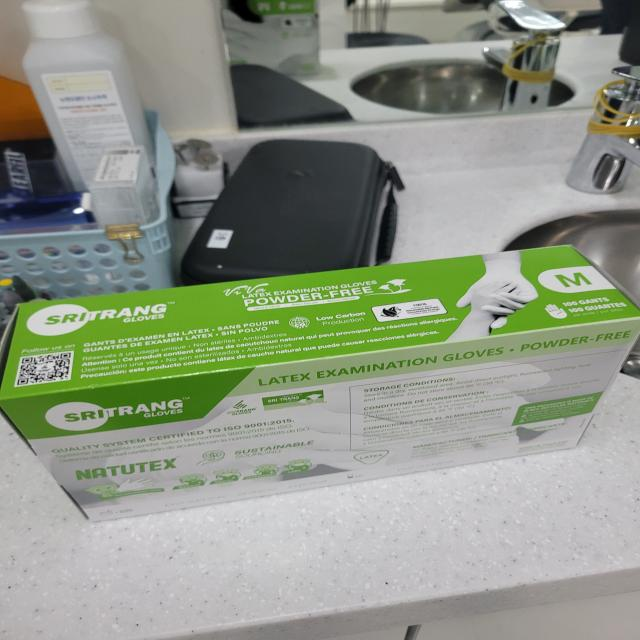glove: (14, 241, 640, 516)
